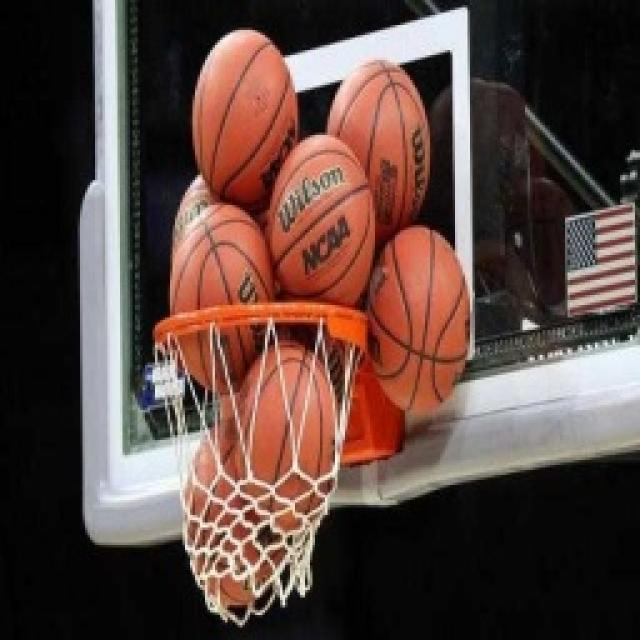rim: (362, 224, 474, 420), (235, 345, 347, 537), (162, 206, 279, 387), (192, 28, 304, 212), (180, 434, 294, 614), (328, 57, 440, 231), (270, 134, 378, 313)
